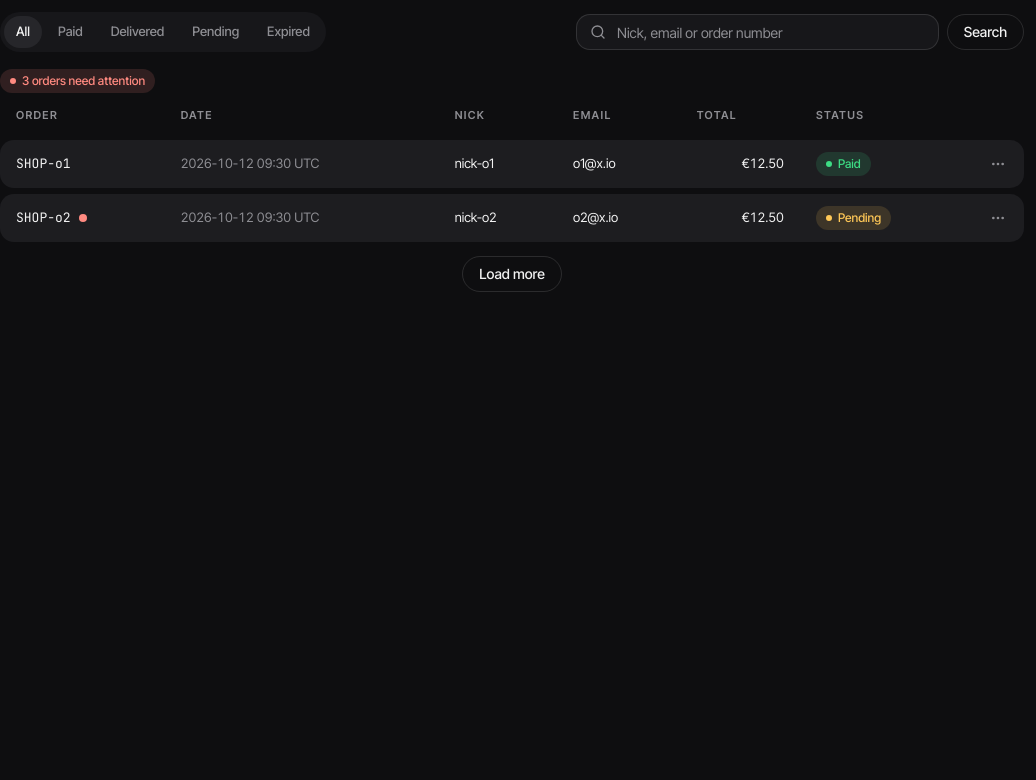
Scenario: OrdersTable › copies the order number from the row menu
Click the button named "Actions for SHOP-o1": coordinates (998, 164) [980,146,1016,182]
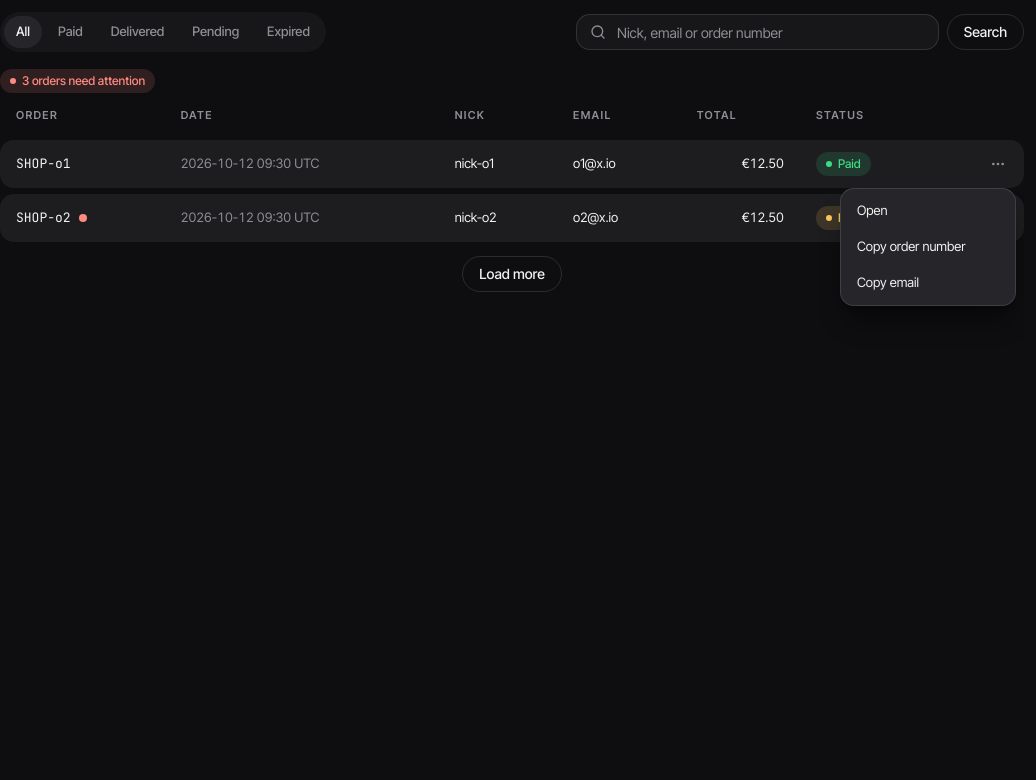
Click the menu item "Copy order number": coordinates (911, 246) [857,238,966,254]
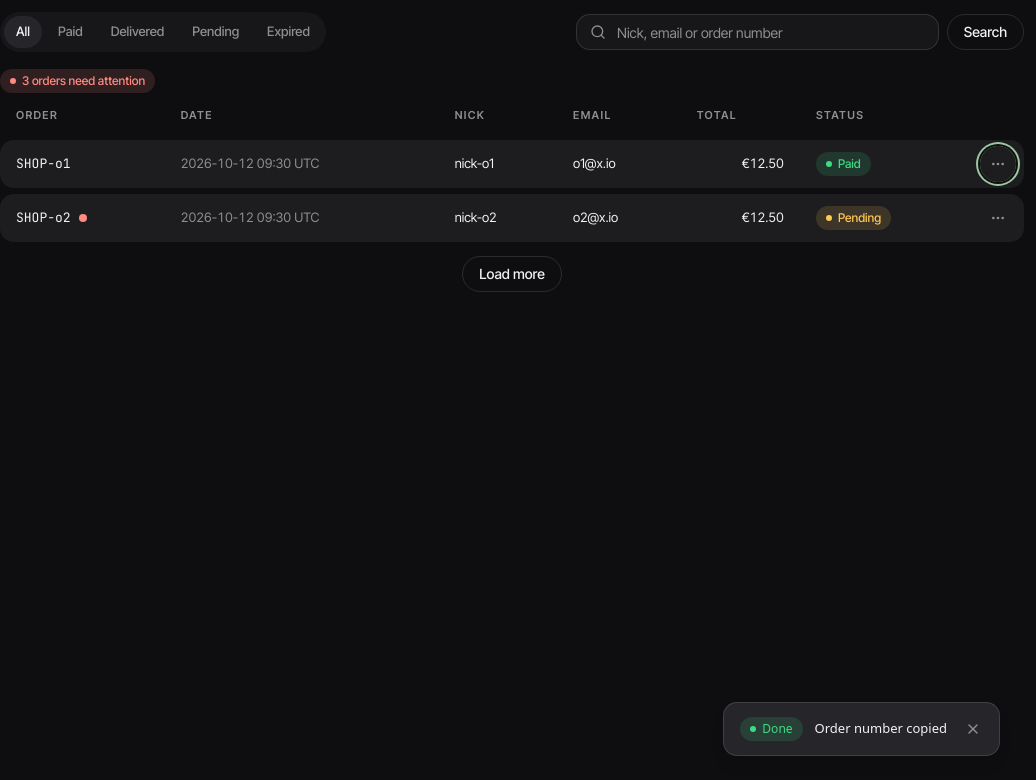
Check: the message shows "Order number copied", box [815,719,947,737]
